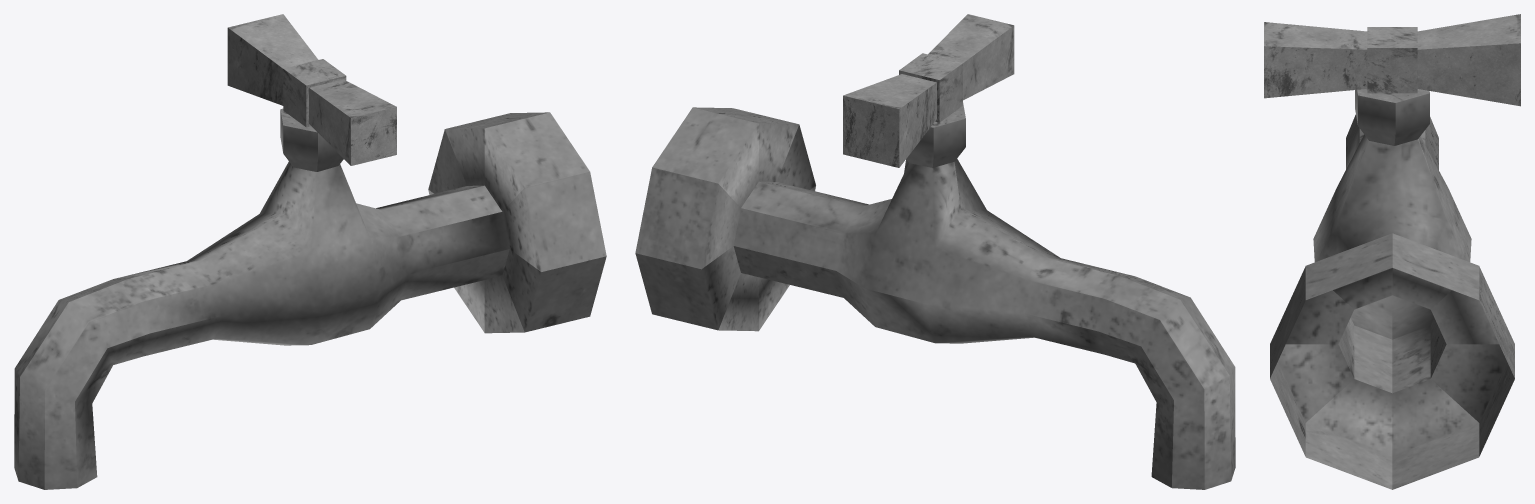
The model's file is Tap.fbx.
The picture shows the model from 3 angles, left to right: view 1: azimuth 30°, elevation 25°; view 2: azimuth 150°, elevation 25°; view 3: azimuth 270°, elevation 25°; orthographic projection. The views are drawn at different scales.
Parts seen in each view (by area): view 1: pCylinder4, pCube47; view 2: pCylinder4, pCube47; view 3: pCylinder4, pCube47.
Part boxes in pixels (box(x1,y1,x2,y2)): pCylinder4: box(14, 108, 606, 489); pCube47: box(227, 14, 396, 165); pCylinder4: box(635, 103, 1235, 489); pCube47: box(843, 14, 1014, 167); pCylinder4: box(1270, 89, 1514, 489); pCube47: box(1264, 14, 1520, 106).
Bounding box in the file's own units: 16.16 × 10.02 × 6.23.
Materials: 1 (1 with a texture image).
